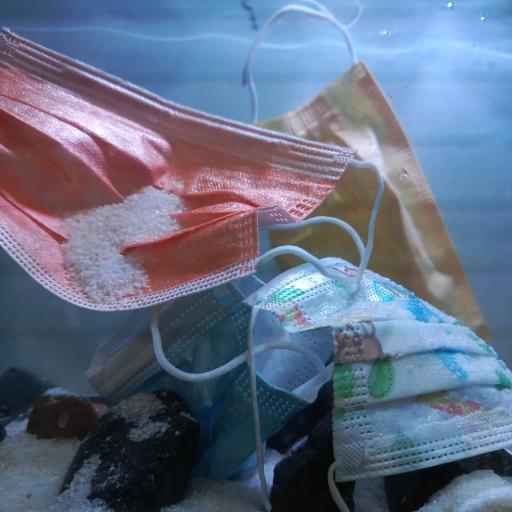mask: (1, 21, 358, 318), (243, 57, 493, 349), (239, 253, 512, 486), (84, 242, 336, 484)
